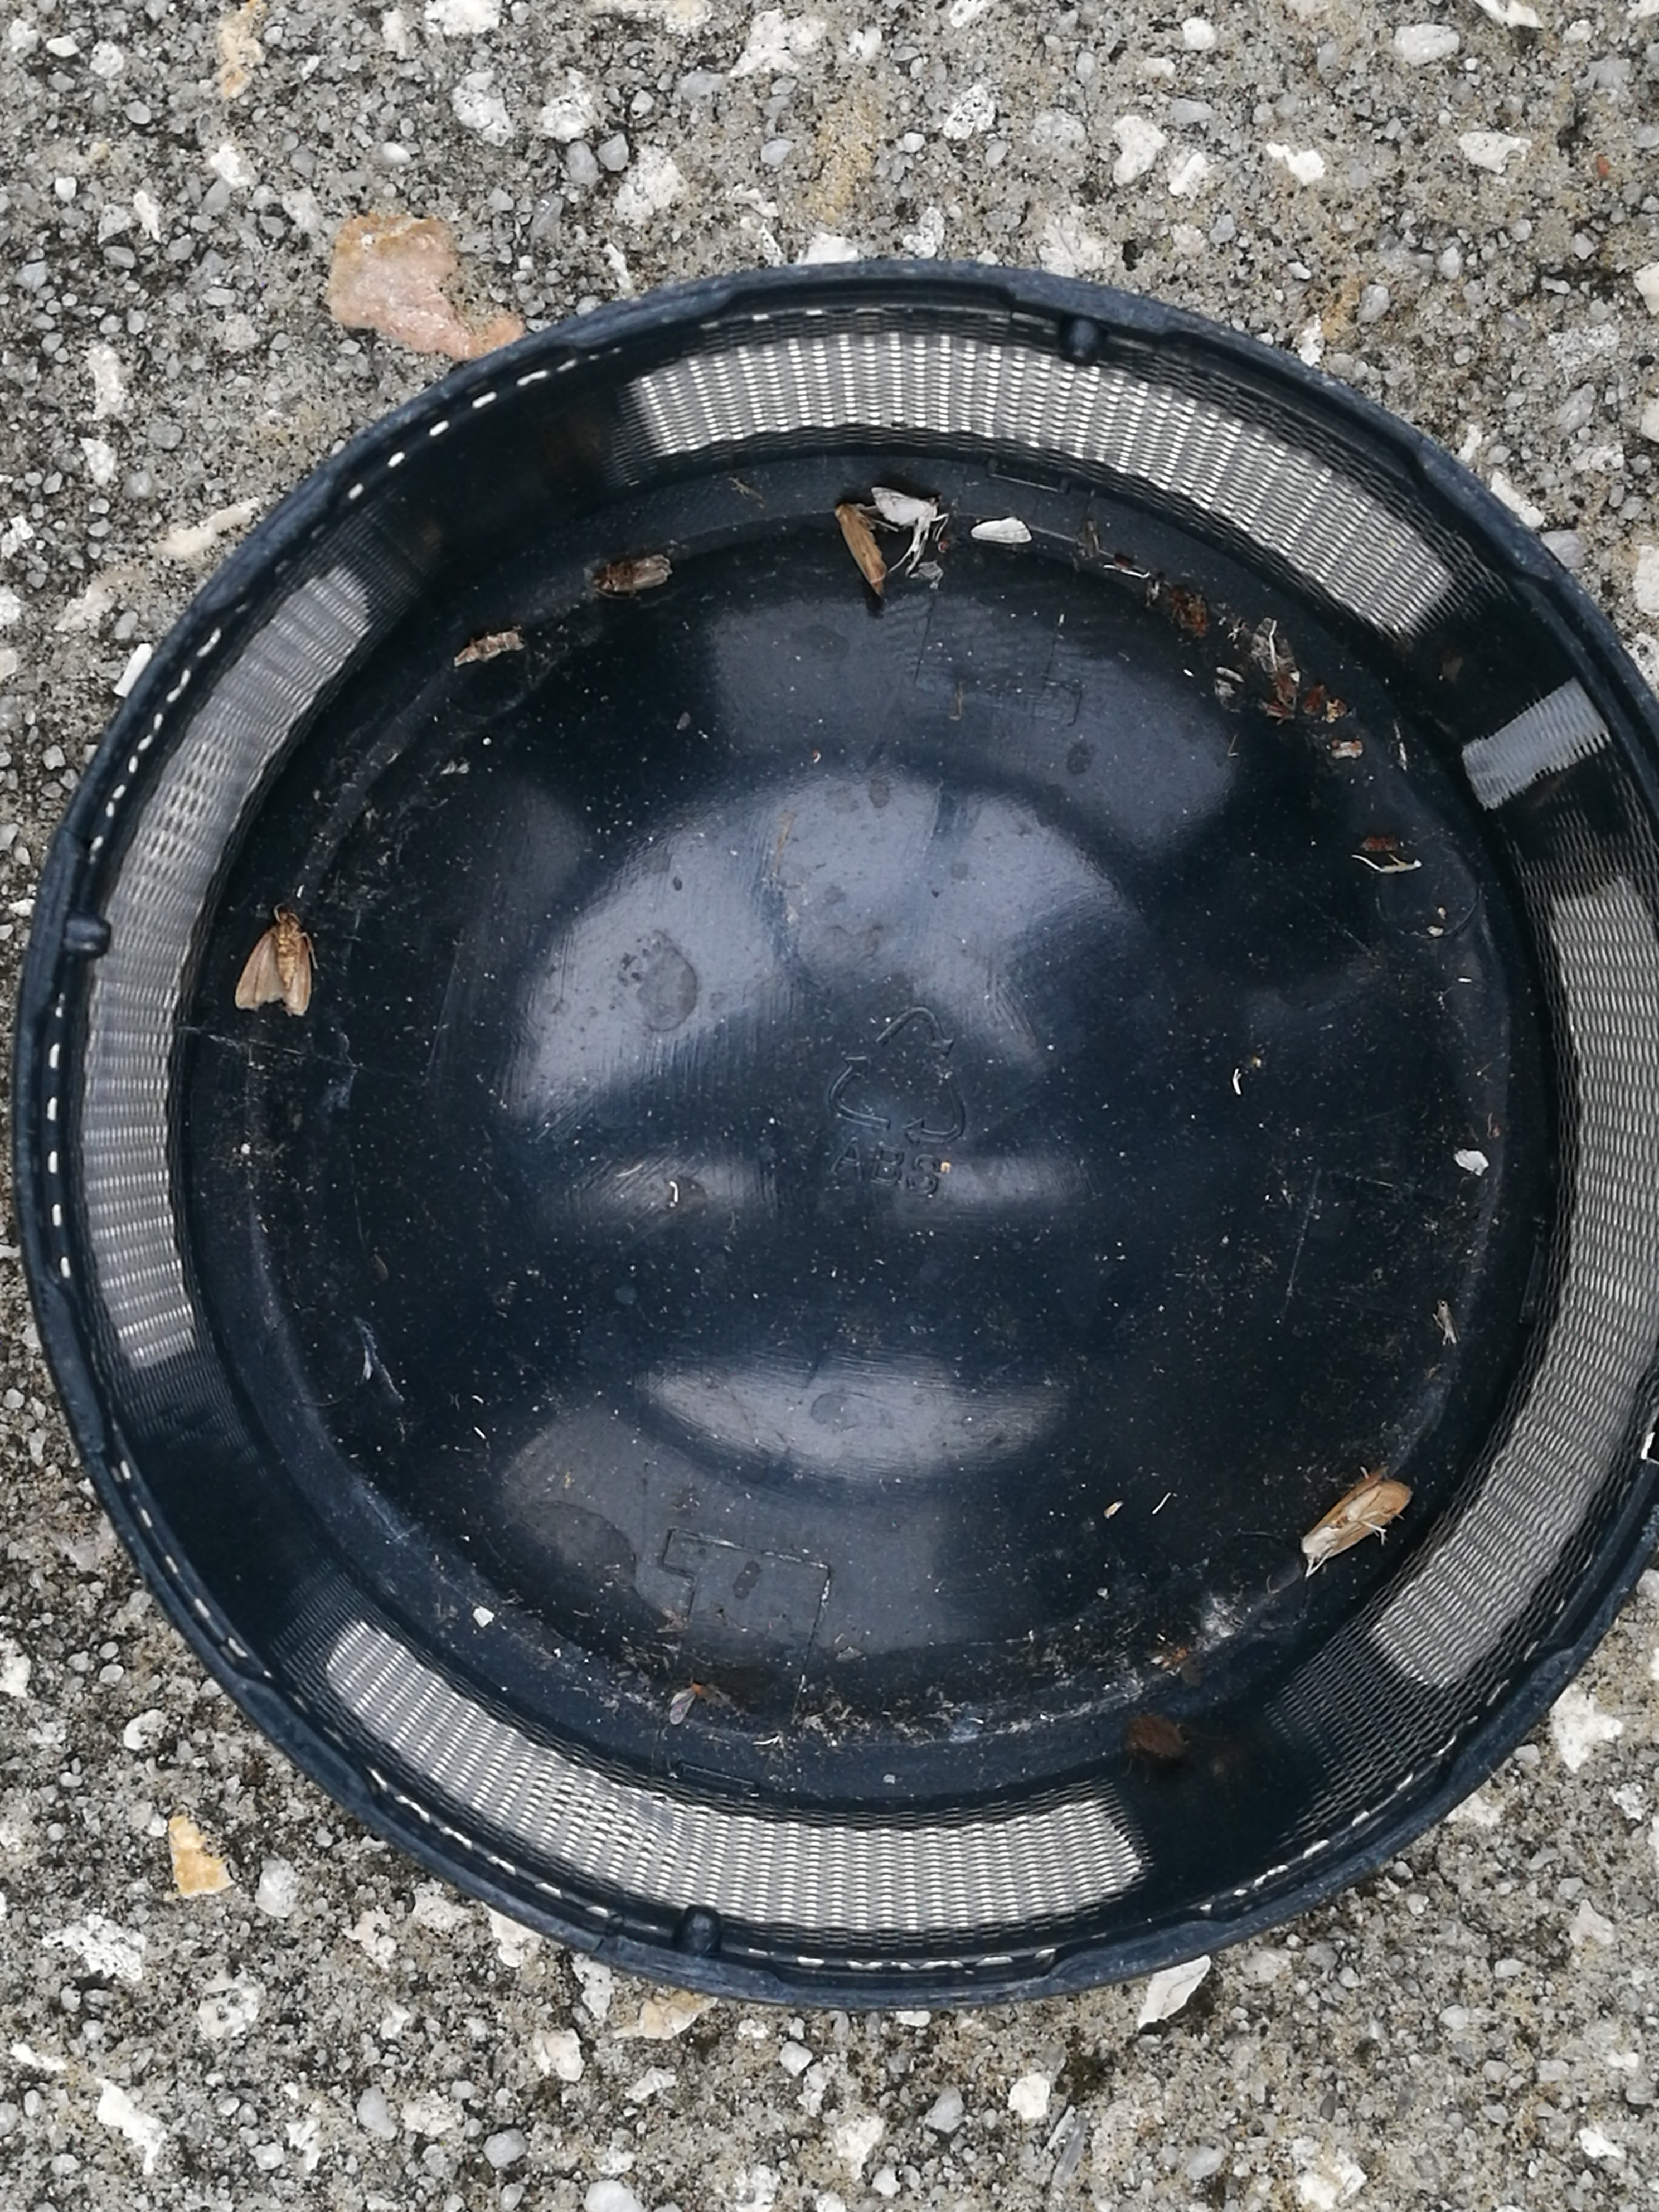mosquito: (1303, 1468, 1410, 1561), (835, 503, 885, 596), (594, 557, 669, 590)
moth: (235, 916, 312, 1015), (875, 486, 938, 526)
